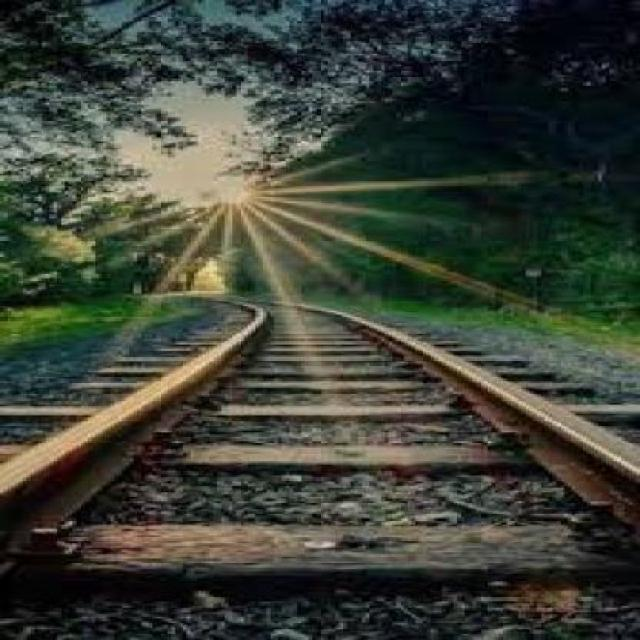rail: (0, 282, 640, 640)
